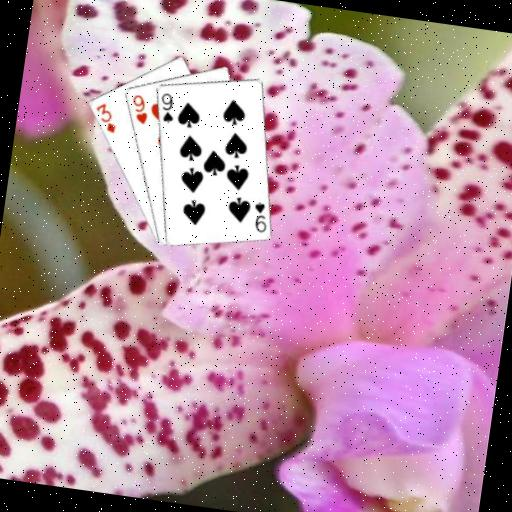3D: (90, 99, 121, 135)
9H: (126, 91, 152, 127)
9S: (155, 89, 178, 125), (248, 198, 271, 234)
